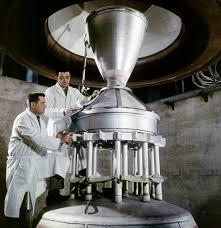thruster: (83, 5, 151, 87)
